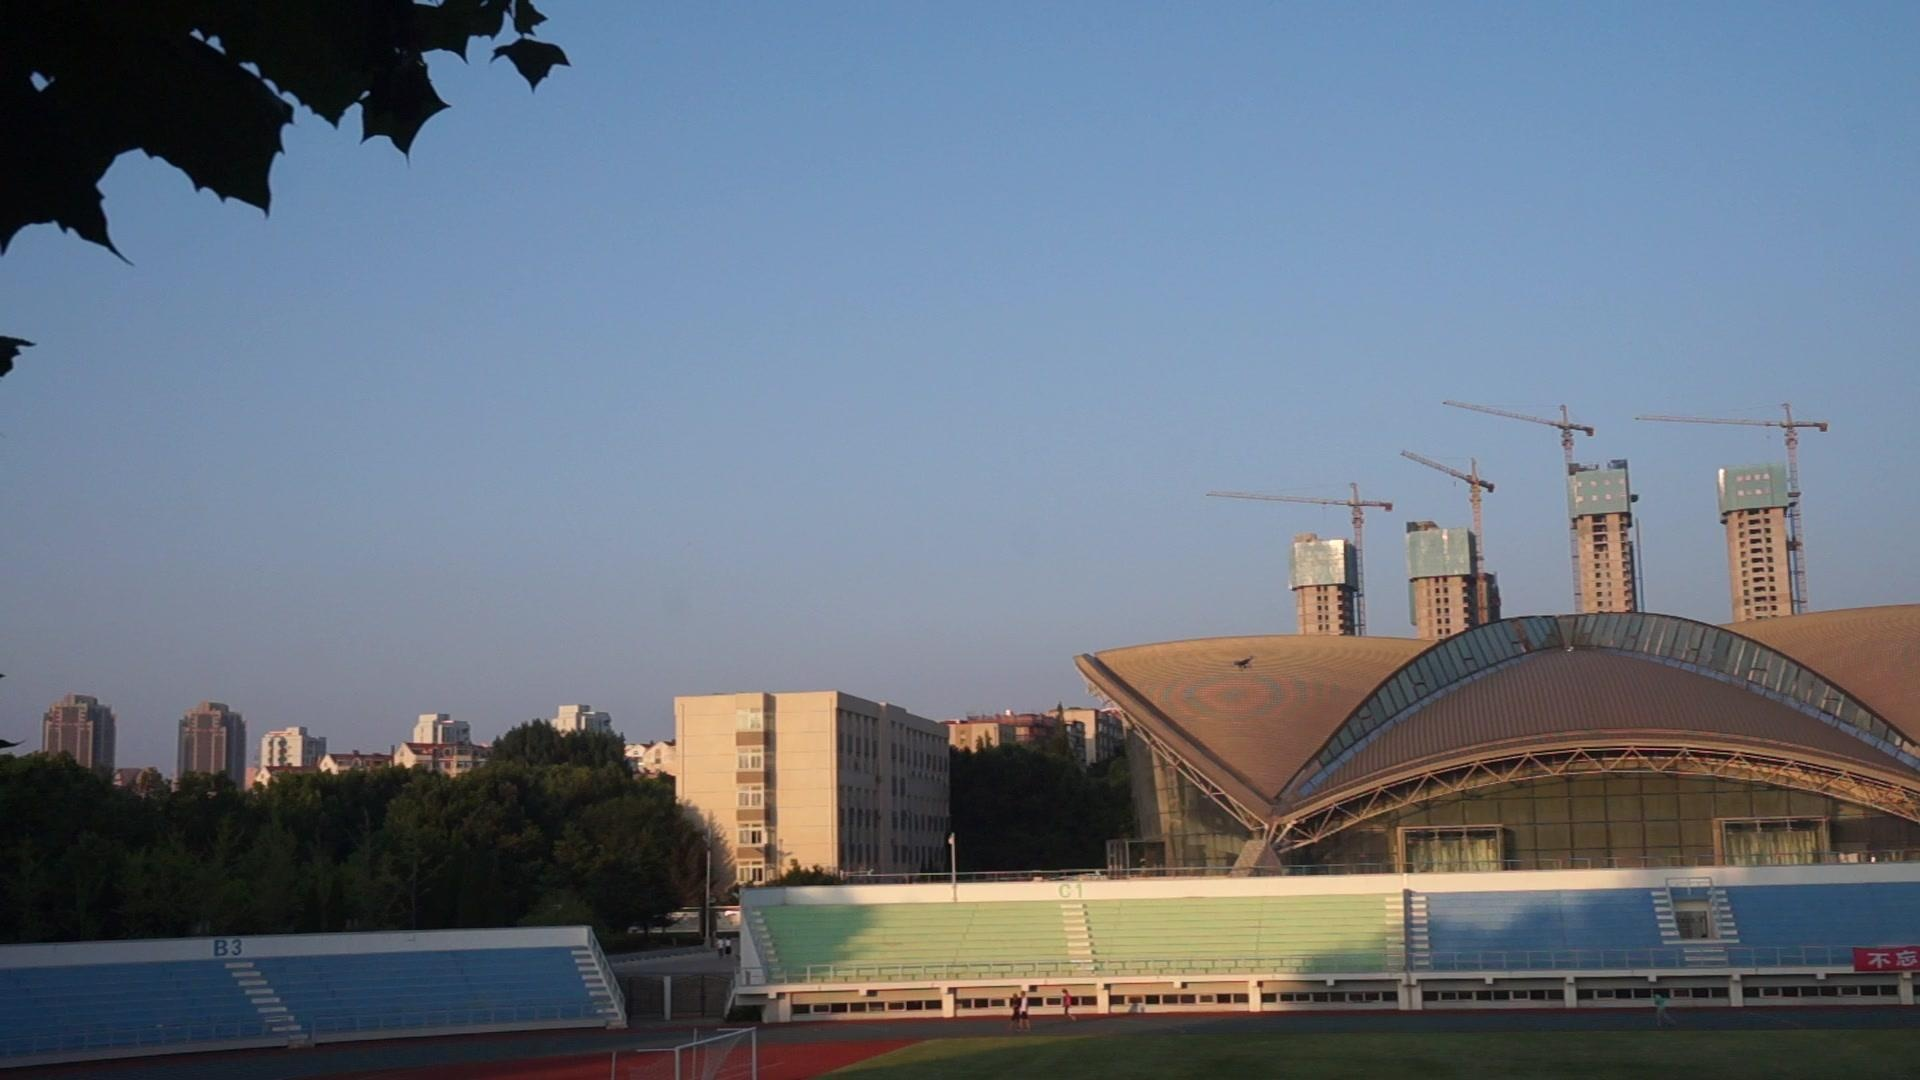UAV: (1234, 655, 1257, 673)
